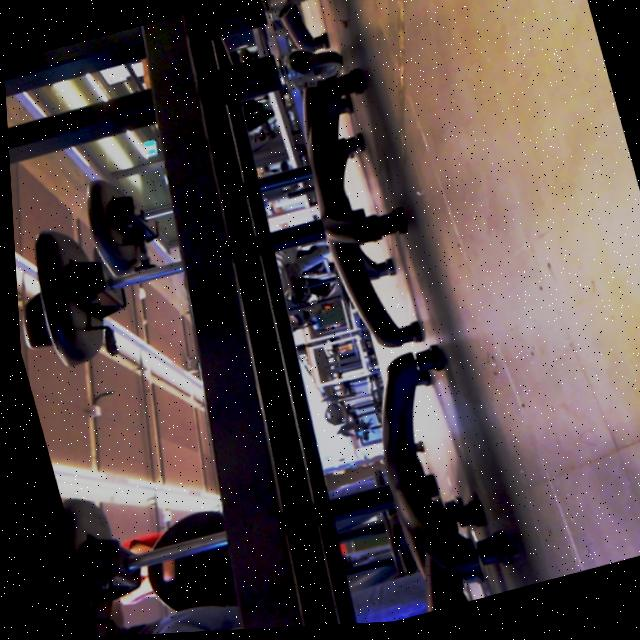redpringles: (91, 509, 640, 637)
